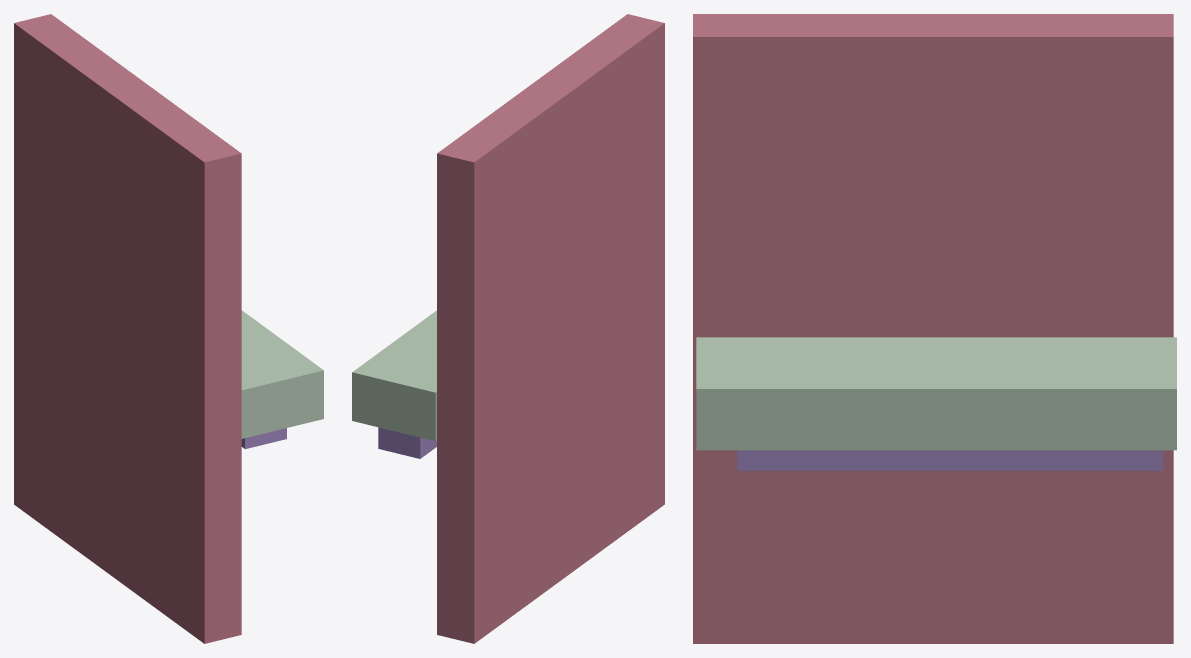
3 views of the same model, side by side, from view 1: azimuth 30°, elevation 25°; view 2: azimuth 150°, elevation 25°; view 3: azimuth 270°, elevation 25° (orthographic). The views are drawn at different scales.
Visible parts, largest first — view 1: world; view 2: world; view 3: world.
Boxes of the visible parts, bbox=[...] form: world: bbox=[14, 14, 323, 643]; world: bbox=[352, 14, 664, 643]; world: bbox=[693, 14, 1176, 643].
Size of the model in its own units: 2.6 by 9.9 by 7.15.
